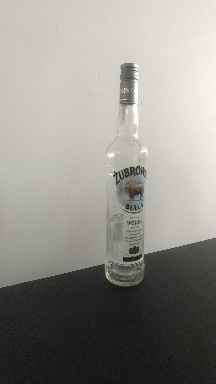butelka: (102, 60, 149, 289)
